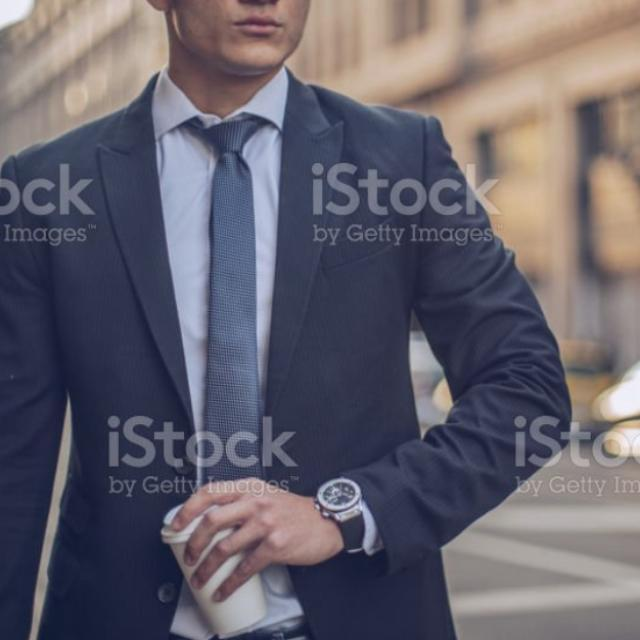Watch: (313, 472, 379, 562)
